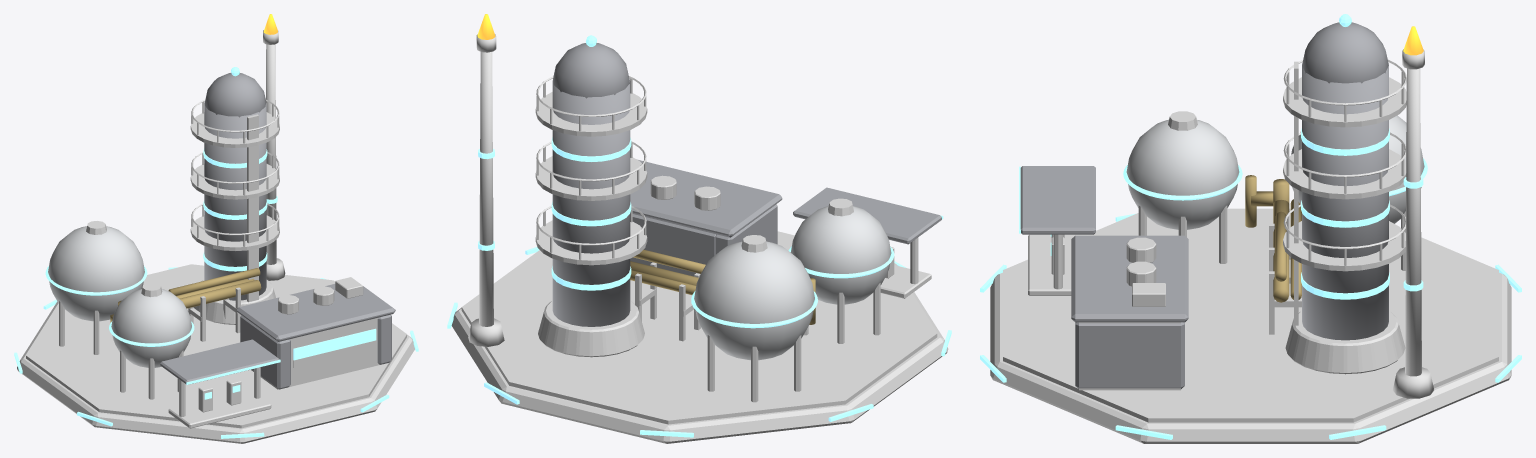
Rendered from sb_raffinerie_t1.glb.
The picture shows the model from 3 angles, left to right: view 1: azimuth 30°, elevation 25°; view 2: azimuth 150°, elevation 25°; view 3: azimuth 270°, elevation 25°; orthographic projection. The views are drawn at different scales.
Visible parts, largest first — view 1: SM_RF_PLINTH_TOP, SM_RF_COL_SHAFT, SM_RF_PLINTH, SM_RF_BLOCK, SM_RF_TANK_A, SM_RF_TANK_B, SM_RF_GLOW, SM_RF_COL_PLATFORMS, SM_RF_BLOCK_CORE, SM_RF_PUMP_CANOPY, SM_RF_PIPES, SM_RF_PUMP_BASE (+11 smaller); view 2: SM_RF_PLINTH_TOP, SM_RF_COL_SHAFT, SM_RF_TANK_A, SM_RF_PLINTH, SM_RF_BLOCK, SM_RF_TANK_B, SM_RF_COL_PLATFORMS, SM_RF_FLARE, SM_RF_GLOW, SM_RF_COL_SKIRT, SM_RF_PUMP_CANOPY, SM_RF_COL_RAILS (+6 smaller); view 3: SM_RF_PLINTH_TOP, SM_RF_COL_SHAFT, SM_RF_BLOCK, SM_RF_PLINTH, SM_RF_TANK_B, SM_RF_COL_PLATFORMS, SM_RF_FLARE, SM_RF_PUMP_CANOPY, SM_RF_GLOW, SM_RF_COL_SKIRT, SM_RF_PIPES, SM_RF_COL_RAILS (+7 smaller).
Part boxes in pixels (x1,y1,x2,y2): SM_RF_PLINTH_TOP: [26, 264, 406, 428]; SM_RF_COL_SHAFT: [204, 73, 266, 300]; SM_RF_PLINTH: [17, 301, 414, 443]; SM_RF_BLOCK: [236, 284, 395, 389]; SM_RF_TANK_A: [48, 226, 144, 321]; SM_RF_TANK_B: [111, 289, 191, 367]; SM_RF_GLOW: [14, 67, 418, 438]; SM_RF_COL_PLATFORMS: [190, 112, 279, 250]; SM_RF_BLOCK_CORE: [251, 317, 390, 389]; SM_RF_PUMP_CANOPY: [160, 339, 279, 383]; SM_RF_PIPES: [110, 268, 261, 322]; SM_RF_PUMP_BASE: [168, 389, 271, 428]; SM_RF_PLINTH_TOP: [461, 231, 937, 424]; SM_RF_COL_SHAFT: [552, 43, 630, 326]; SM_RF_TANK_A: [694, 241, 814, 360]; SM_RF_PLINTH: [451, 263, 948, 443]; SM_RF_BLOCK: [630, 159, 782, 276]; SM_RF_TANK_B: [790, 206, 891, 304]; SM_RF_COL_PLATFORMS: [535, 92, 647, 265]; SM_RF_FLARE: [468, 52, 504, 346]; SM_RF_GLOW: [447, 35, 951, 437]; SM_RF_COL_SKIRT: [538, 301, 644, 357]; SM_RF_PUMP_CANOPY: [793, 187, 941, 244]; SM_RF_COL_RAILS: [536, 76, 646, 259]; SM_RF_PLINTH_TOP: [1003, 208, 1498, 422]; SM_RF_COL_SHAFT: [1302, 22, 1388, 340]; SM_RF_BLOCK: [1071, 235, 1188, 388]; SM_RF_PLINTH: [990, 272, 1511, 443]; SM_RF_TANK_B: [1126, 119, 1239, 229]; SM_RF_COL_PLATFORMS: [1283, 77, 1406, 271]; SM_RF_FLARE: [1393, 68, 1433, 398]; SM_RF_PUMP_CANOPY: [1020, 166, 1095, 234]; SM_RF_GLOW: [980, 14, 1521, 439]; SM_RF_COL_SKIRT: [1285, 311, 1405, 374]; SM_RF_PIPES: [1245, 175, 1301, 302]; SM_RF_COL_RAILS: [1283, 59, 1406, 265].
Size of the model in its own units: 28.66 by 22.45 by 28.66.
